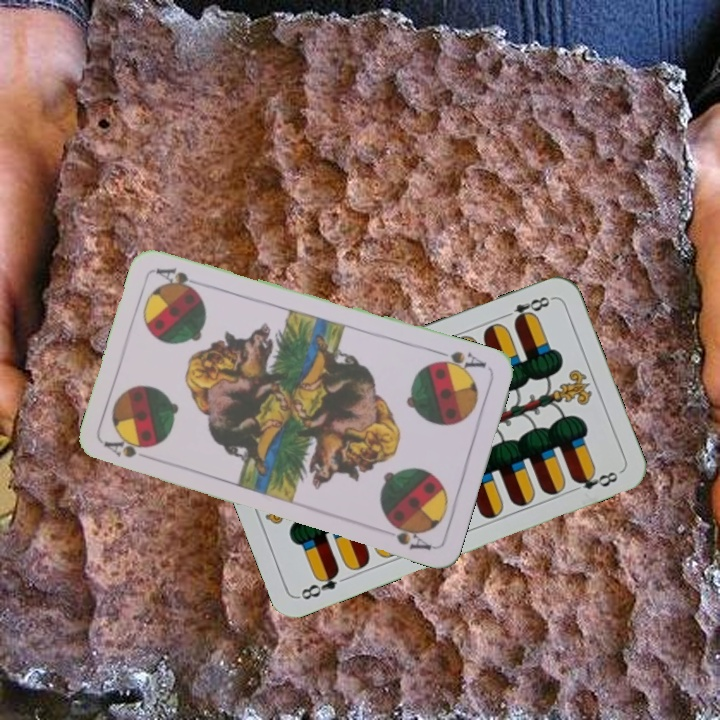E8: (295, 565, 352, 603), (498, 292, 555, 326)
SA: (429, 346, 489, 376), (101, 437, 158, 464)
